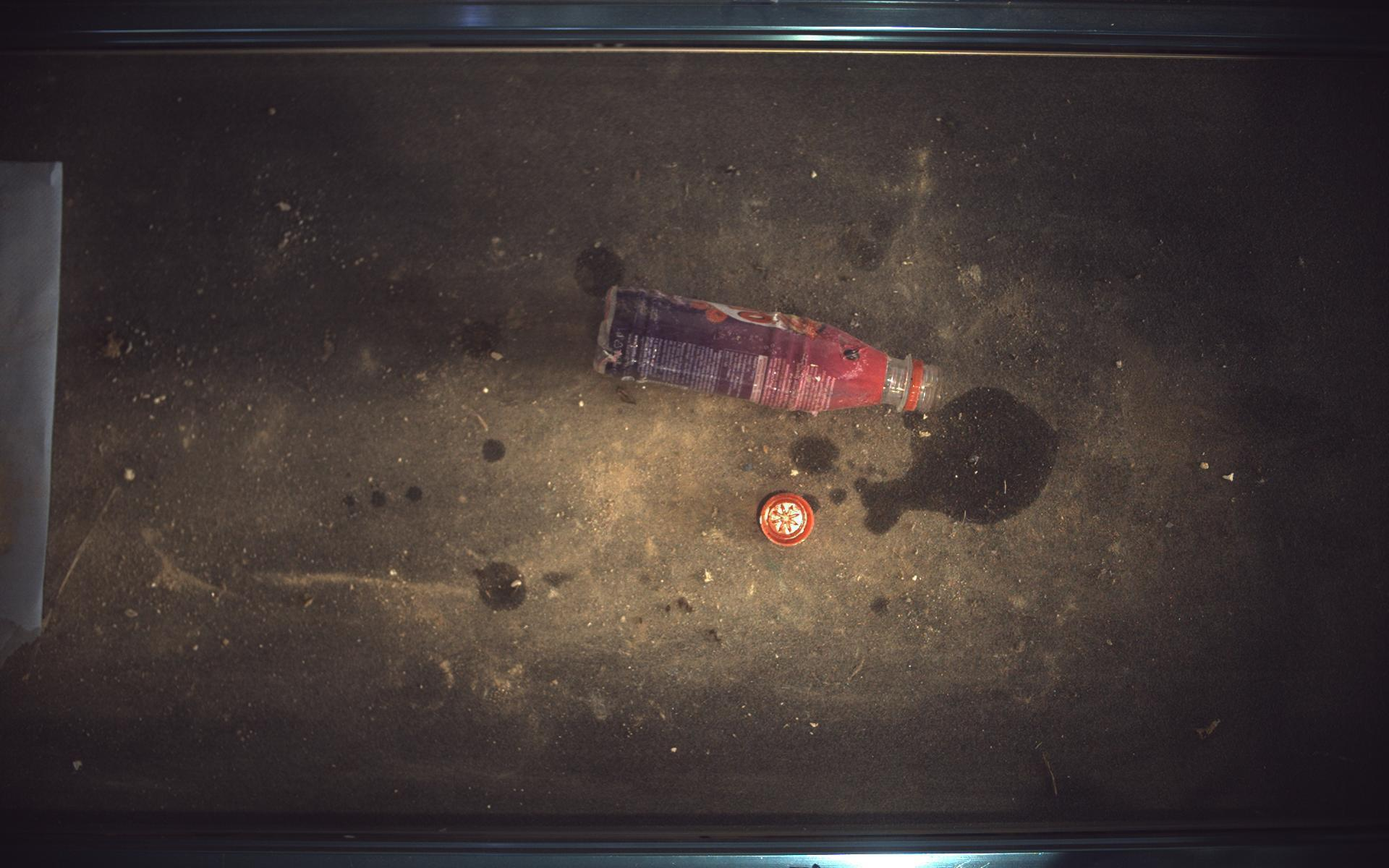general_w: (595, 286, 942, 414), (760, 493, 816, 547)
